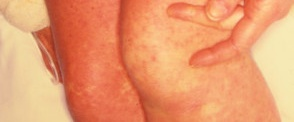SJS-TEN: (45, 0, 198, 122)
